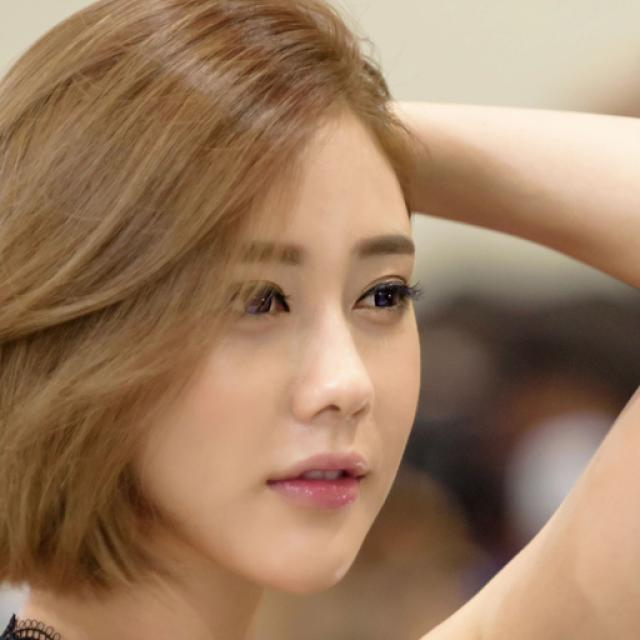neutral: (118, 110, 422, 588)
